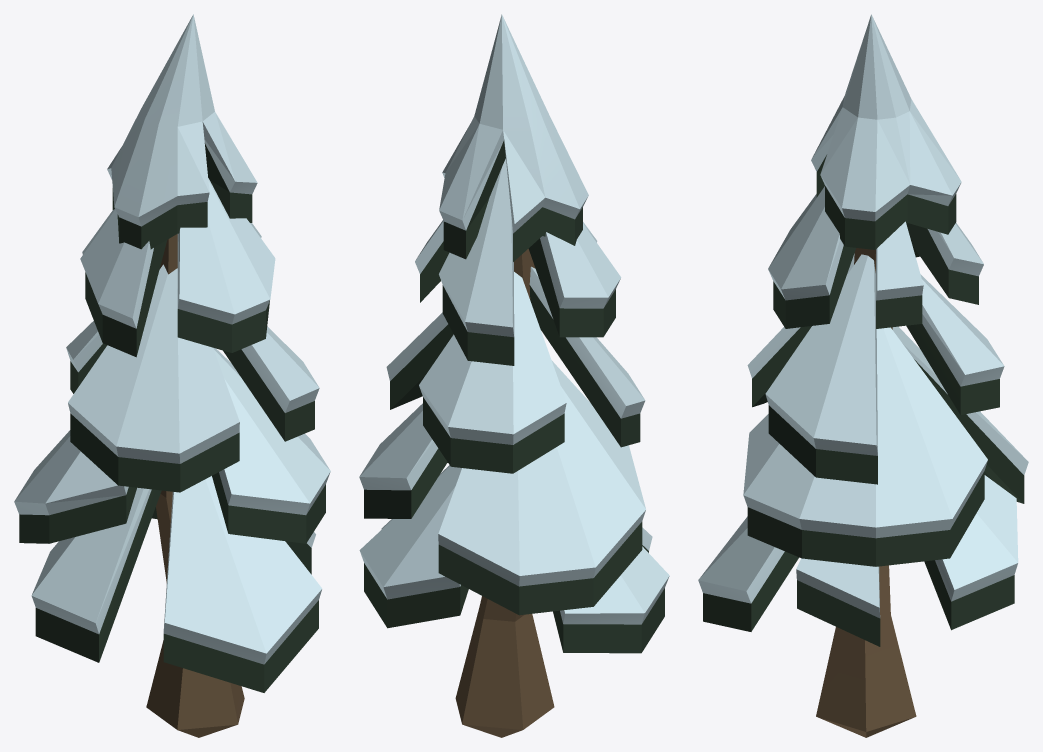
File: Pino01.glb
3 renders of one model, left to right at view 1: azimuth 30°, elevation 25°; view 2: azimuth 150°, elevation 25°; view 3: azimuth 270°, elevation 25°, orthographic.
Visible parts, largest first — view 1: SM_Env_Tree_Pine_01_Snow; view 2: SM_Env_Tree_Pine_01_Snow; view 3: SM_Env_Tree_Pine_01_Snow.
Part boxes in pixels (x1=…): SM_Env_Tree_Pine_01_Snow: x1=14, y1=14, x2=330, y2=737; SM_Env_Tree_Pine_01_Snow: x1=359, y1=14, x2=669, y2=737; SM_Env_Tree_Pine_01_Snow: x1=698, y1=14, x2=1028, y2=737.
Size of the model in its own units: 1.43 by 3.65 by 1.51.
Materials: 1 (1 with a texture image).
